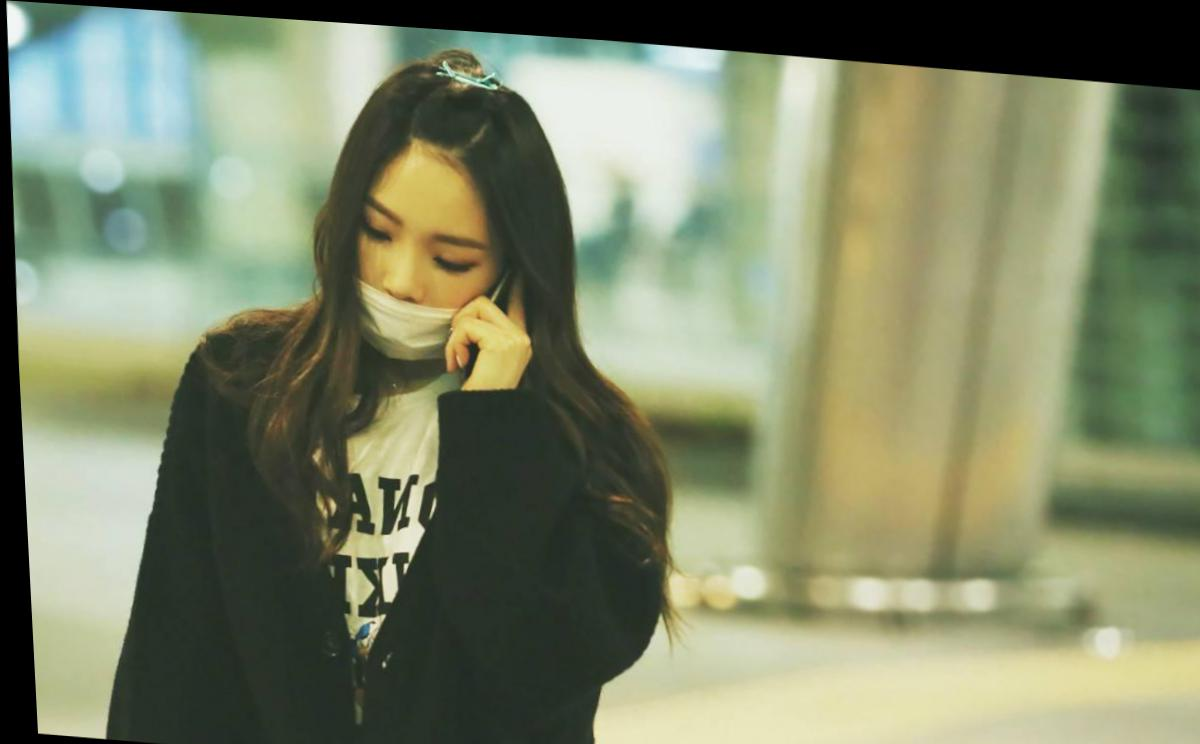WRONG: (345, 169, 500, 365)
